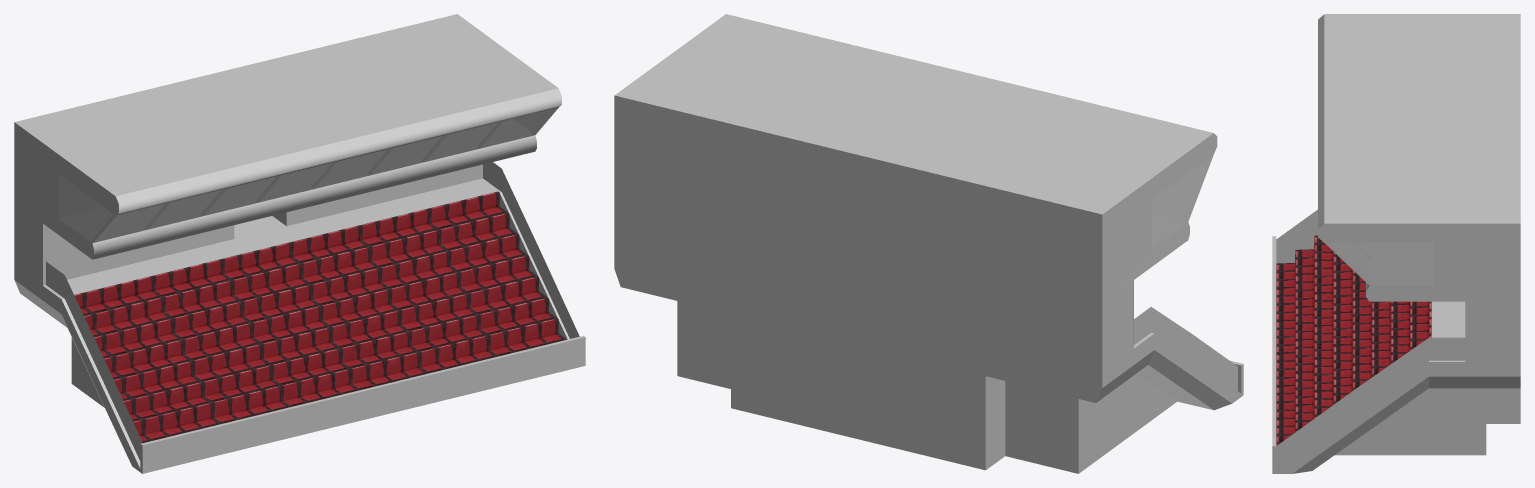
The model's file is Grandstand_C.fbx.
The picture shows the model from 3 angles, left to right: view 1: azimuth 30°, elevation 25°; view 2: azimuth 150°, elevation 25°; view 3: azimuth 270°, elevation 25°; orthographic projection. The views are drawn at different scales.
Parts seen in each view (by area): view 1: Concrete, Seats, Glass, Side_Fence; view 2: Concrete, Side_Fence, Glass; view 3: Concrete, Seats, Side_Fence, Glass.
Boxes of the visible parts, <box> form: Concrete: <box>14,14,585,473</box>; Seats: <box>74,191,566,442</box>; Glass: <box>59,108,557,242</box>; Side_Fence: <box>46,162,579,460</box>; Concrete: <box>614,14,1243,473</box>; Side_Fence: <box>1134,307,1237,390</box>; Glass: <box>1151,155,1213,248</box>; Concrete: <box>1272,14,1520,473</box>; Seats: <box>1276,235,1431,445</box>; Side_Fence: <box>1276,209,1465,468</box>; Glass: <box>1324,242,1433,285</box>.
Size of the model in its own units: 1968 by 1096 by 986.
